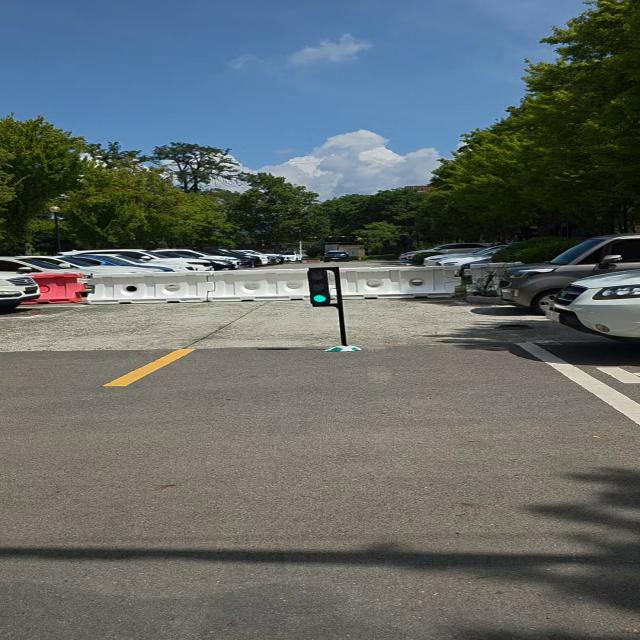green: (306, 268, 334, 308)
